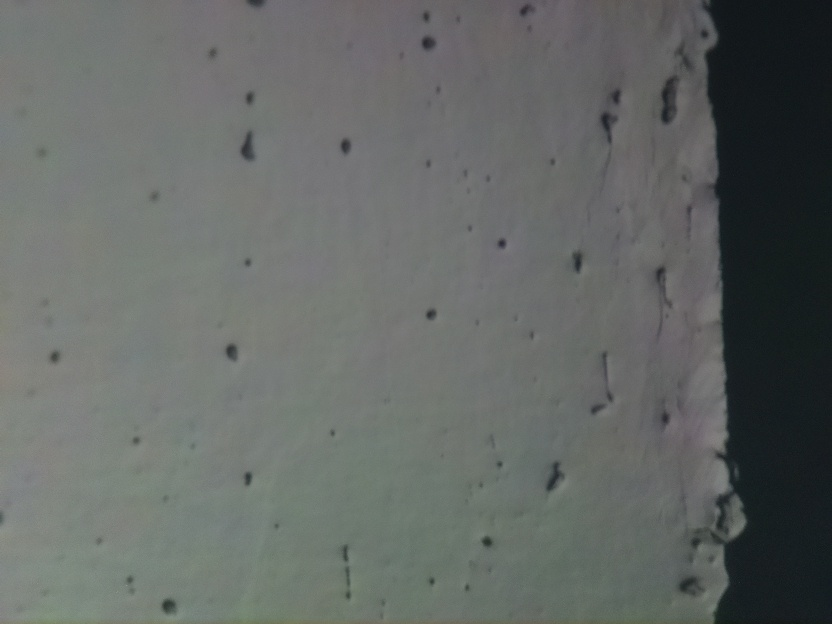crack: (707, 0, 832, 624)
